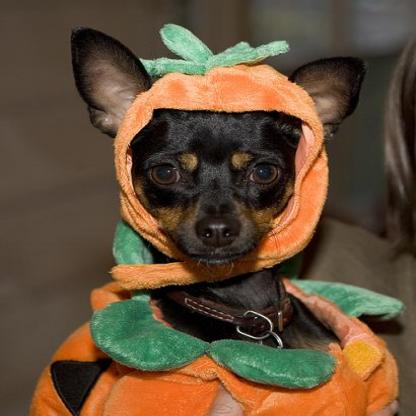miniature_pinscher: (63, 24, 401, 414)
